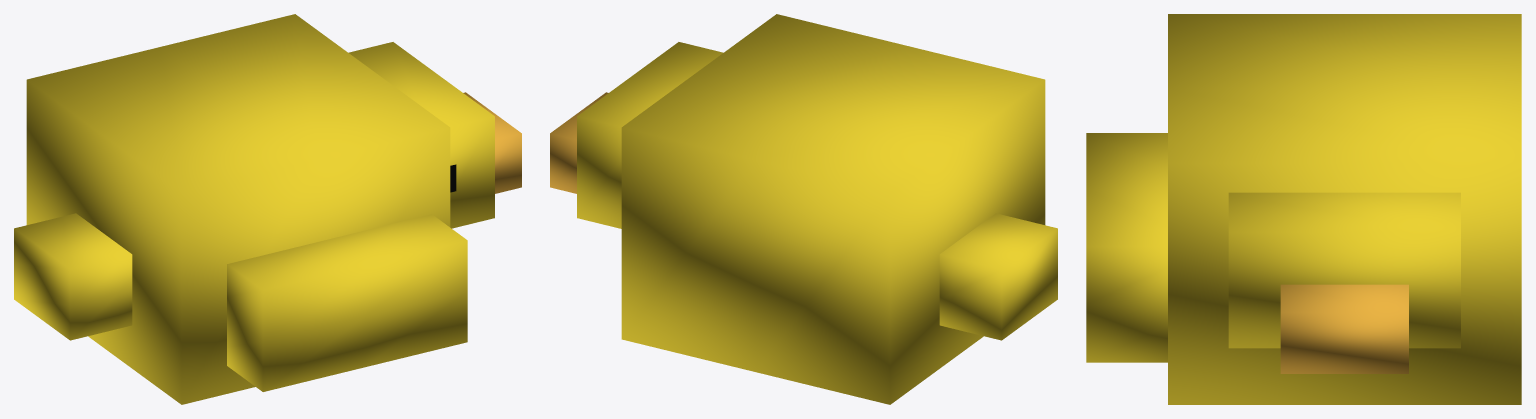
The model's file is flappy.gltf.
3 views of the same model, side by side, from view 1: azimuth 30°, elevation 25°; view 2: azimuth 150°, elevation 25°; view 3: azimuth 270°, elevation 25° (orthographic). The views are drawn at different scales.
Visible parts, largest first — view 1: Cube.001; view 2: Cube.001; view 3: Cube.001.
Part boxes in pixels (x1=…): Cube.001: x1=14, y1=14, x2=521, y2=404; Cube.001: x1=550, y1=14, x2=1057, y2=404; Cube.001: x1=1086, y1=14, x2=1521, y2=404.
Bounding box in the file's own units: 3.36 × 1.51 × 2.46.
